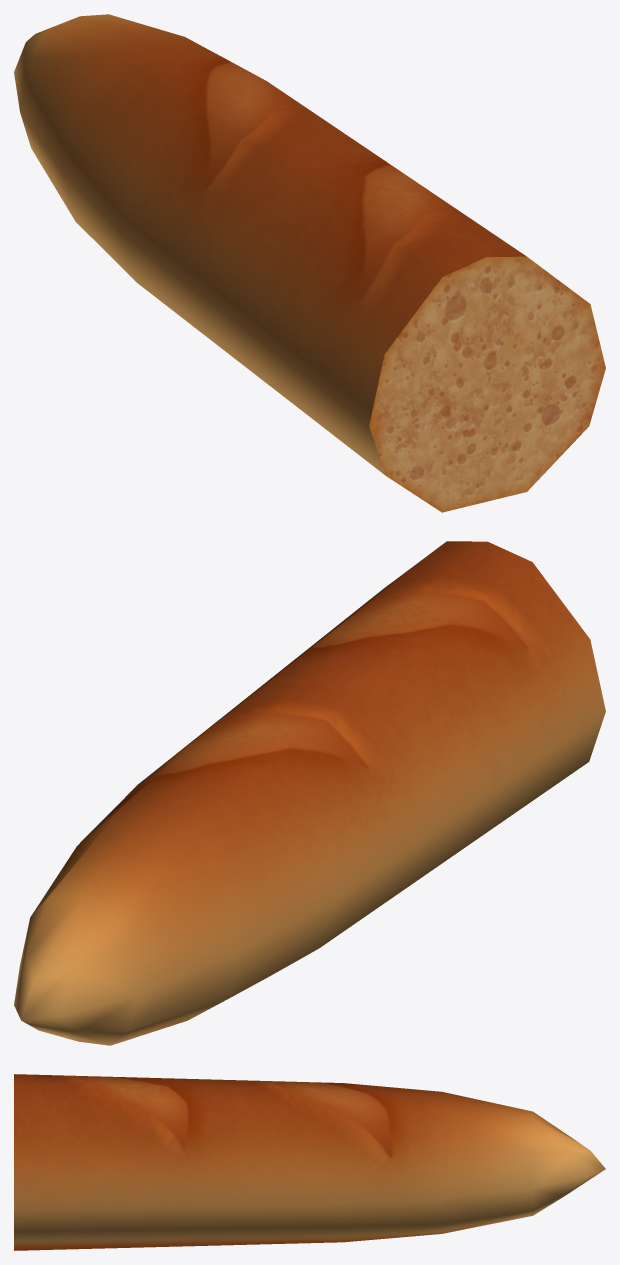
The model's file is Baguette_02_Half.fbx.
3 views of the same model, one above another, from view 1: azimuth 30°, elevation 25°; view 2: azimuth 150°, elevation 25°; view 3: azimuth 270°, elevation 25° (orthographic). The views are drawn at different scales.
Parts seen in each view (by area): view 1: Baguette_02_Half; view 2: Baguette_02_Half; view 3: Baguette_02_Half.
Part boxes in pixels (x1=…): Baguette_02_Half: x1=14, y1=14, x2=605, y2=512; Baguette_02_Half: x1=14, y1=541, x2=605, y2=1045; Baguette_02_Half: x1=14, y1=1074, x2=605, y2=1250.
Size of the model in its own units: 20.27 by 20 by 68.71.
